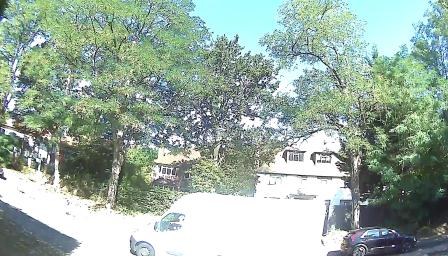Cars: (115, 193, 350, 256), (334, 226, 428, 256)
